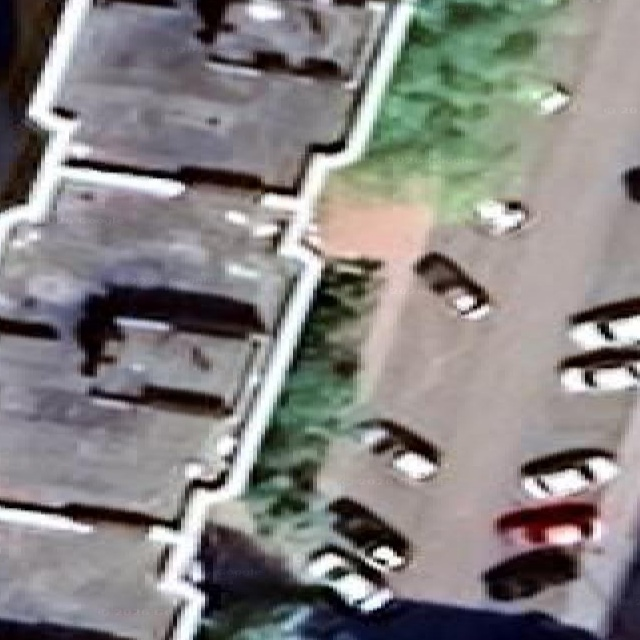car: (328, 498, 408, 570), (306, 547, 392, 612), (483, 546, 578, 600), (415, 253, 492, 319), (358, 420, 439, 481), (521, 449, 618, 499), (495, 502, 601, 545), (569, 299, 639, 349), (559, 349, 639, 392), (474, 200, 529, 235)
